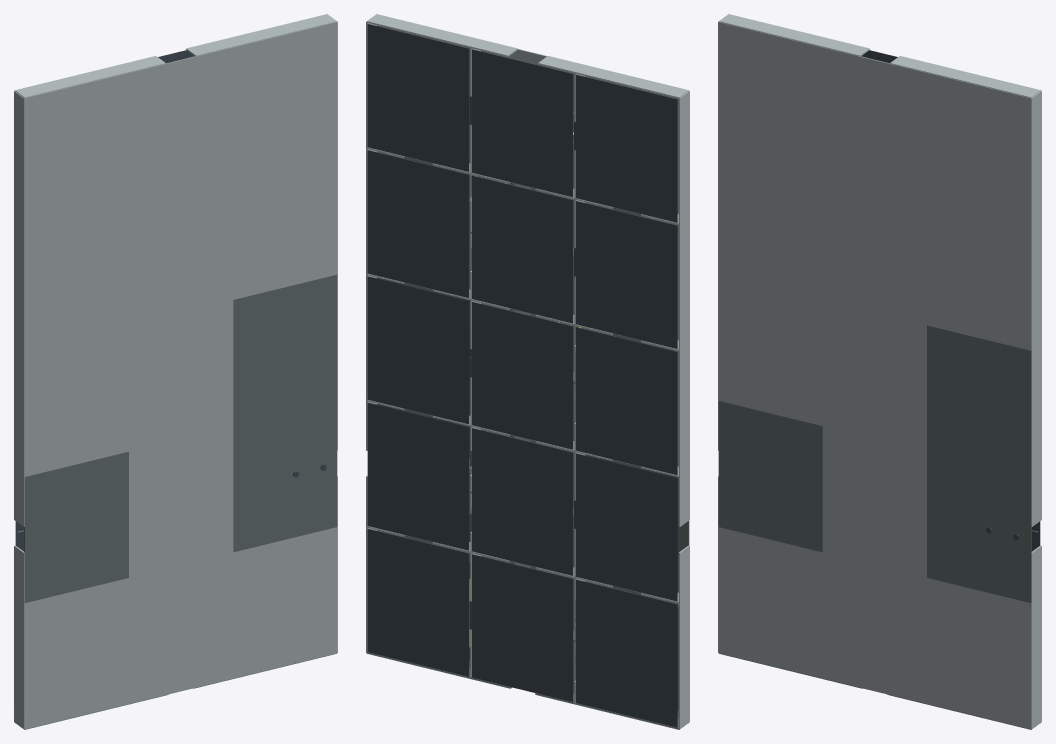
File: b01_loading_dock_megaplex.glb
The picture shows the model from 3 angles, left to right: view 1: azimuth 30°, elevation 25°; view 2: azimuth 150°, elevation 25°; view 3: azimuth 330°, elevation 25°; orthographic projection.
Visible parts, largest first — view 1: floor_customs_entry, floor_receiving_yard, floor_container_gate, floor_security_screening, floor_manifest_office, floor_forklift_repair, floor_hazmat_barrels, floor_cold_storage, floor_foreman_catwalk, floor_loading_cage, floor_sortation_hall, floor_intake_court (+7 smaller); view 2: ceiling_grid_container_gate, ceiling_grid_security_screening, ceiling_grid_hazmat_barrels, ceiling_grid_boiler_pump, ceiling_grid_foreman_catwalk, ceiling_grid_receiving_yard, ceiling_grid_sortation_hall, ceiling_grid_forklift_repair, ceiling_grid_manifest_office, ceiling_grid_warehouse_spine, ceiling_grid_alarm_relay, ceiling_grid_intake_court (+10 smaller); view 3: floor_customs_entry, floor_container_gate, floor_receiving_yard, floor_forklift_repair, floor_hazmat_barrels, floor_security_screening, floor_manifest_office, floor_cold_storage, floor_loading_cage, floor_sortation_hall, floor_foreman_catwalk, floor_intake_court (+7 smaller).
Boxes of the visible parts, x1=… form: floor_customs_entry: x1=129, y1=47, x2=233, y2=198; floor_receiving_yard: x1=24, y1=73, x2=128, y2=224; floor_container_gate: x1=233, y1=22, x2=337, y2=173; floor_security_screening: x1=233, y1=148, x2=337, y2=299; floor_manifest_office: x1=24, y1=325, x2=128, y2=476; floor_forklift_repair: x1=24, y1=199, x2=128, y2=350; floor_hazmat_barrels: x1=233, y1=274, x2=337, y2=425; floor_cold_storage: x1=24, y1=451, x2=128, y2=602; floor_foreman_catwalk: x1=233, y1=527, x2=337, y2=678; floor_loading_cage: x1=24, y1=578, x2=128, y2=729; floor_sortation_hall: x1=129, y1=552, x2=233, y2=703; floor_intake_court: x1=129, y1=174, x2=233, y2=325; ceiling_grid_container_gate: x1=367, y1=24, x2=469, y2=171; ceiling_grid_security_screening: x1=367, y1=150, x2=469, y2=297; ceiling_grid_hazmat_barrels: x1=367, y1=276, x2=469, y2=424; ceiling_grid_boiler_pump: x1=367, y1=402, x2=469, y2=550; ceiling_grid_foreman_catwalk: x1=367, y1=529, x2=469, y2=676; ceiling_grid_receiving_yard: x1=576, y1=74, x2=677, y2=222; ceiling_grid_sortation_hall: x1=472, y1=554, x2=573, y2=702; ceiling_grid_forklift_repair: x1=576, y1=201, x2=677, y2=348; ceiling_grid_manifest_office: x1=576, y1=327, x2=677, y2=475; ceiling_grid_warehouse_spine: x1=472, y1=302, x2=573, y2=449; ceiling_grid_alarm_relay: x1=472, y1=428, x2=573, y2=575; ceiling_grid_intake_court: x1=472, y1=175, x2=573, y2=323; floor_customs_entry: x1=822, y1=47, x2=926, y2=198; floor_container_gate: x1=927, y1=73, x2=1031, y2=224; floor_receiving_yard: x1=718, y1=22, x2=822, y2=173; floor_forklift_repair: x1=718, y1=148, x2=822, y2=299; floor_hazmat_barrels: x1=927, y1=325, x2=1031, y2=476; floor_security_screening: x1=927, y1=199, x2=1031, y2=350; floor_manifest_office: x1=718, y1=274, x2=822, y2=425; floor_cold_storage: x1=718, y1=401, x2=822, y2=552; floor_loading_cage: x1=718, y1=527, x2=822, y2=678; floor_sortation_hall: x1=822, y1=552, x2=926, y2=703; floor_foreman_catwalk: x1=927, y1=578, x2=1031, y2=729; floor_intake_court: x1=822, y1=174, x2=926, y2=325.
Size of the model in its own units: 115 by 221 by 7.18.
